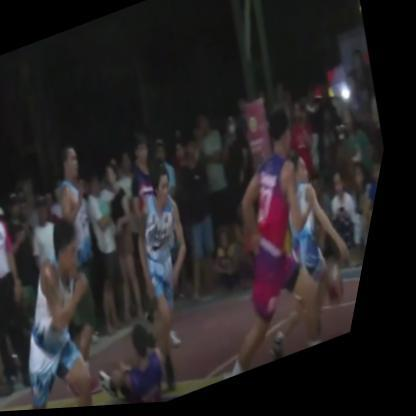basketball: (328, 268, 367, 317)
